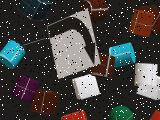Right: (47, 8, 101, 79)
